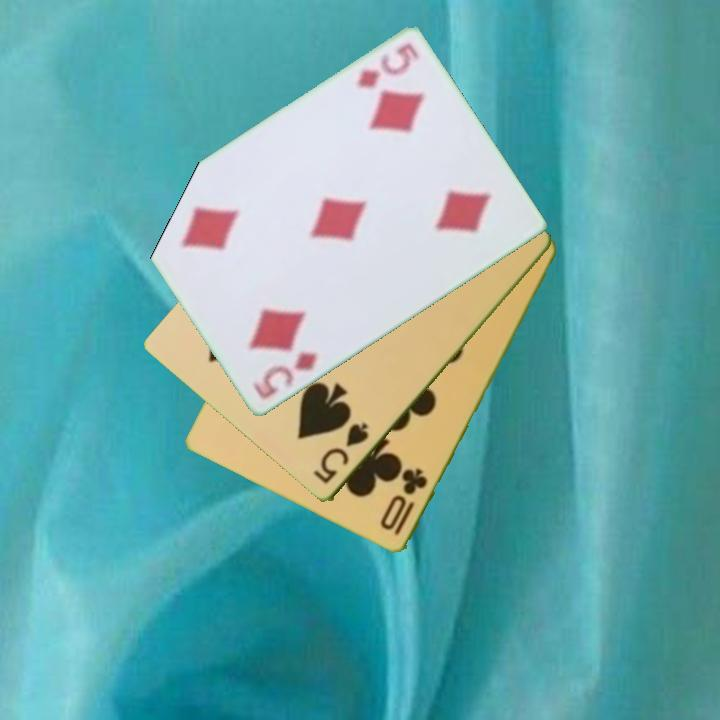10c: (377, 465, 431, 540)
5d: (249, 348, 321, 403), (353, 40, 422, 92)
5s: (309, 419, 372, 488)
